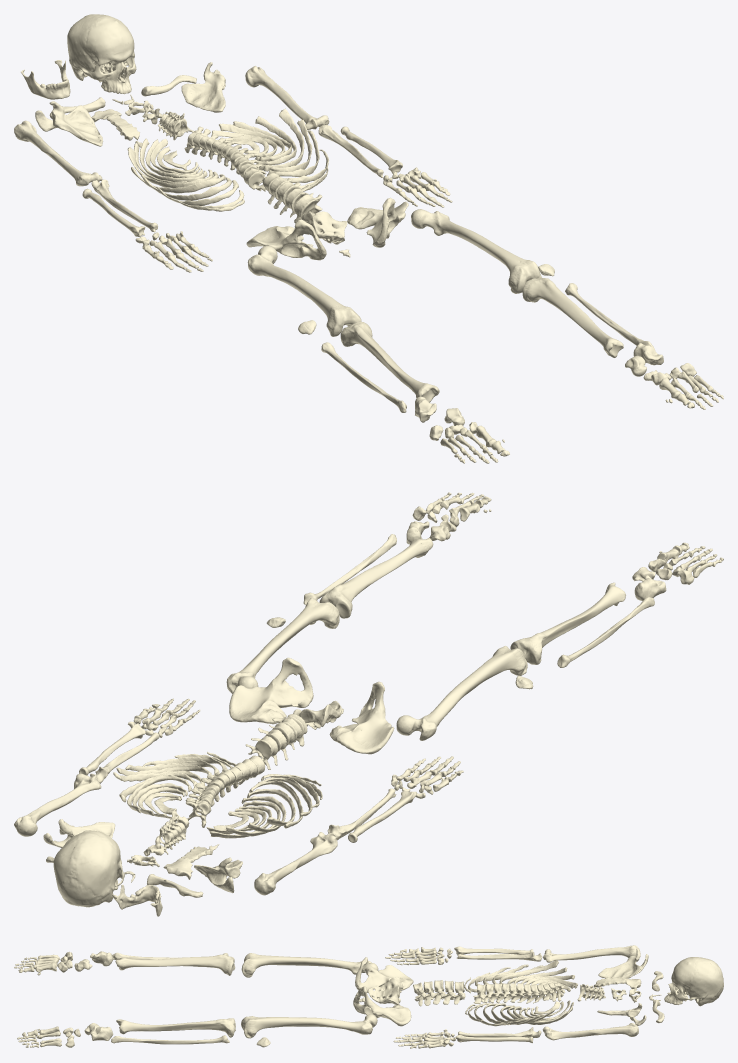
The model's file is human_skeleton_named.glb.
3 renders of one model, top to bottom at view 1: azimuth 30°, elevation 25°; view 2: azimuth 150°, elevation 25°; view 3: azimuth 270°, elevation 25°, orthographic. The views are drawn at different scales.
Visible parts, largest first — view 1: Cranium, l_femur, r_femur, l_tibia, r_oscoxa, r_tibia, l_oscoxa, r_scapula, l_scapula, l_humerus, r_humerus, Sacrum (+3 smaller); view 2: Cranium, l_oscoxa, r_femur, r_oscoxa, l_femur, l_tibia, r_tibia, l_humerus, r_humerus, r_scapula, r_fibula, l_fibula (+5 smaller); view 3: Cranium, l_femur, r_femur, r_tibia, l_tibia, l_oscoxa, r_oscoxa, r_humerus, l_humerus, r_scapula, Sacrum, l_fibula (+22 smaller).
Boxes of the visible parts, x1,y1,x2,y2 form: Cranium: [67, 14, 136, 94]; l_femur: [411, 209, 541, 293]; r_femur: [247, 246, 361, 336]; l_tibia: [522, 278, 623, 357]; r_oscoxa: [246, 219, 326, 260]; r_tibia: [340, 321, 439, 402]; l_oscoxa: [347, 197, 408, 247]; r_scapula: [35, 101, 102, 146]; l_scapula: [181, 62, 225, 112]; l_humerus: [245, 66, 329, 130]; r_humerus: [14, 120, 102, 186]; Sacrum: [302, 211, 347, 244]; Cranium: [53, 830, 124, 907]; l_oscoxa: [229, 657, 313, 724]; r_femur: [396, 646, 527, 740]; r_oscoxa: [329, 681, 394, 754]; l_femur: [226, 598, 339, 693]; l_tibia: [319, 538, 433, 618]; r_tibia: [510, 582, 625, 664]; l_humerus: [14, 773, 101, 836]; r_humerus: [254, 832, 337, 895]; r_scapula: [194, 857, 242, 893]; r_fibula: [557, 597, 654, 667]; l_fibula: [303, 534, 396, 605]; Cranium: [664, 957, 723, 1006]; l_femur: [241, 1014, 377, 1038]; r_femur: [241, 953, 378, 977]; r_tibia: [115, 954, 235, 975]; l_tibia: [116, 1018, 235, 1037]; l_oscoxa: [353, 986, 411, 1026]; r_oscoxa: [355, 957, 413, 992]; r_humerus: [543, 945, 638, 962]; l_humerus: [542, 1023, 638, 1040]; r_scapula: [598, 948, 648, 978]; Sacrum: [367, 977, 403, 1005]; l_fibula: [111, 1035, 229, 1044].
Size of the model in its own units: 0.7697 by 0.1583 by 2.36.
